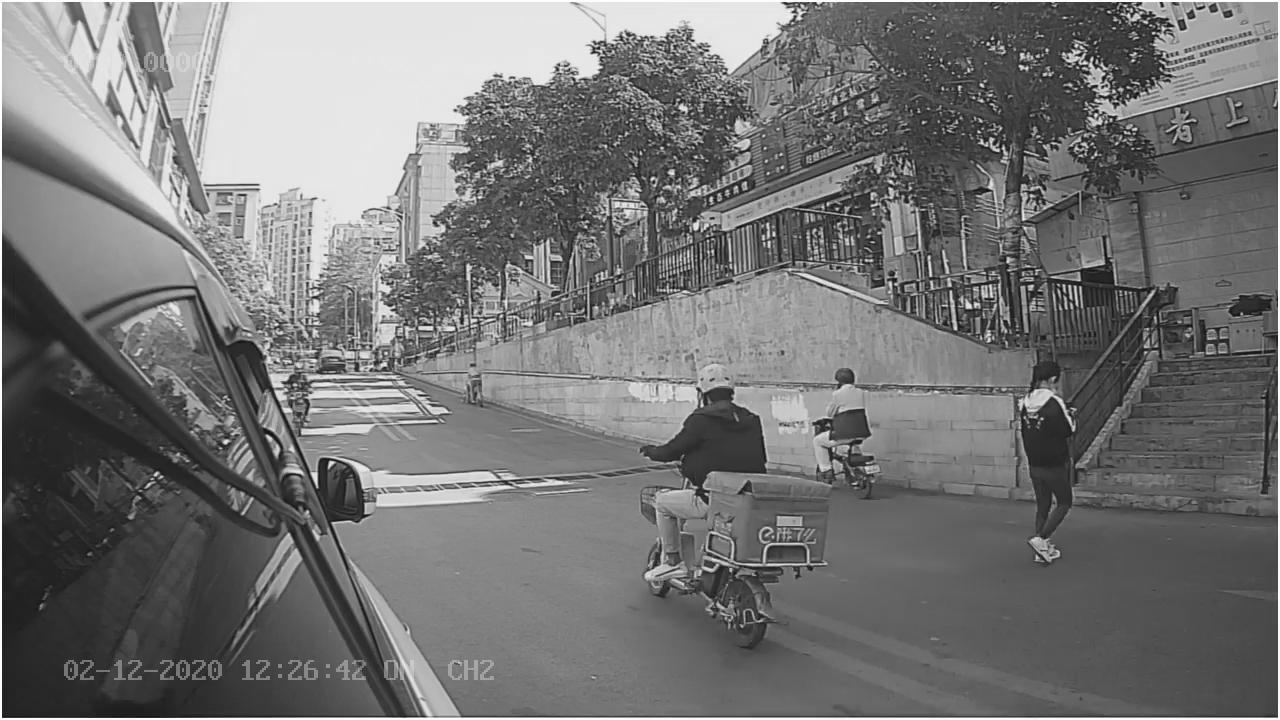person: (1009, 350, 1087, 568), (638, 360, 773, 472)
